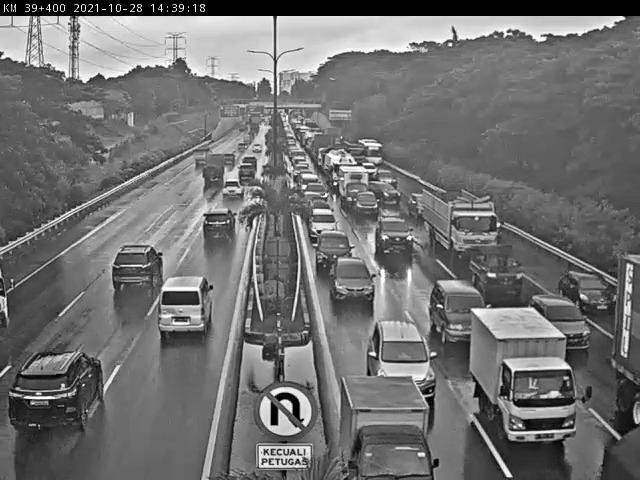car: (7, 351, 103, 433), (368, 320, 436, 395), (429, 280, 487, 346), (531, 291, 591, 348), (159, 278, 214, 334), (465, 241, 522, 294), (560, 269, 618, 311), (110, 244, 162, 288), (329, 256, 377, 301), (315, 230, 352, 272), (375, 217, 415, 255), (308, 207, 337, 241), (202, 209, 231, 236), (370, 181, 401, 202), (354, 191, 379, 214), (408, 191, 431, 214), (303, 190, 324, 210), (221, 180, 244, 198), (307, 198, 331, 214), (305, 183, 328, 199)
mid truck: (422, 188, 502, 261)
small truck: (467, 310, 575, 443), (339, 376, 438, 480), (340, 168, 370, 203)
